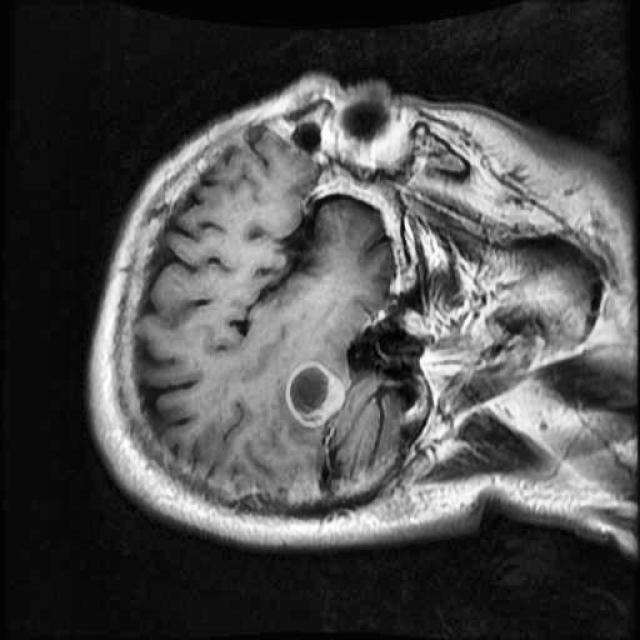Tumor: (260, 345, 374, 451)
